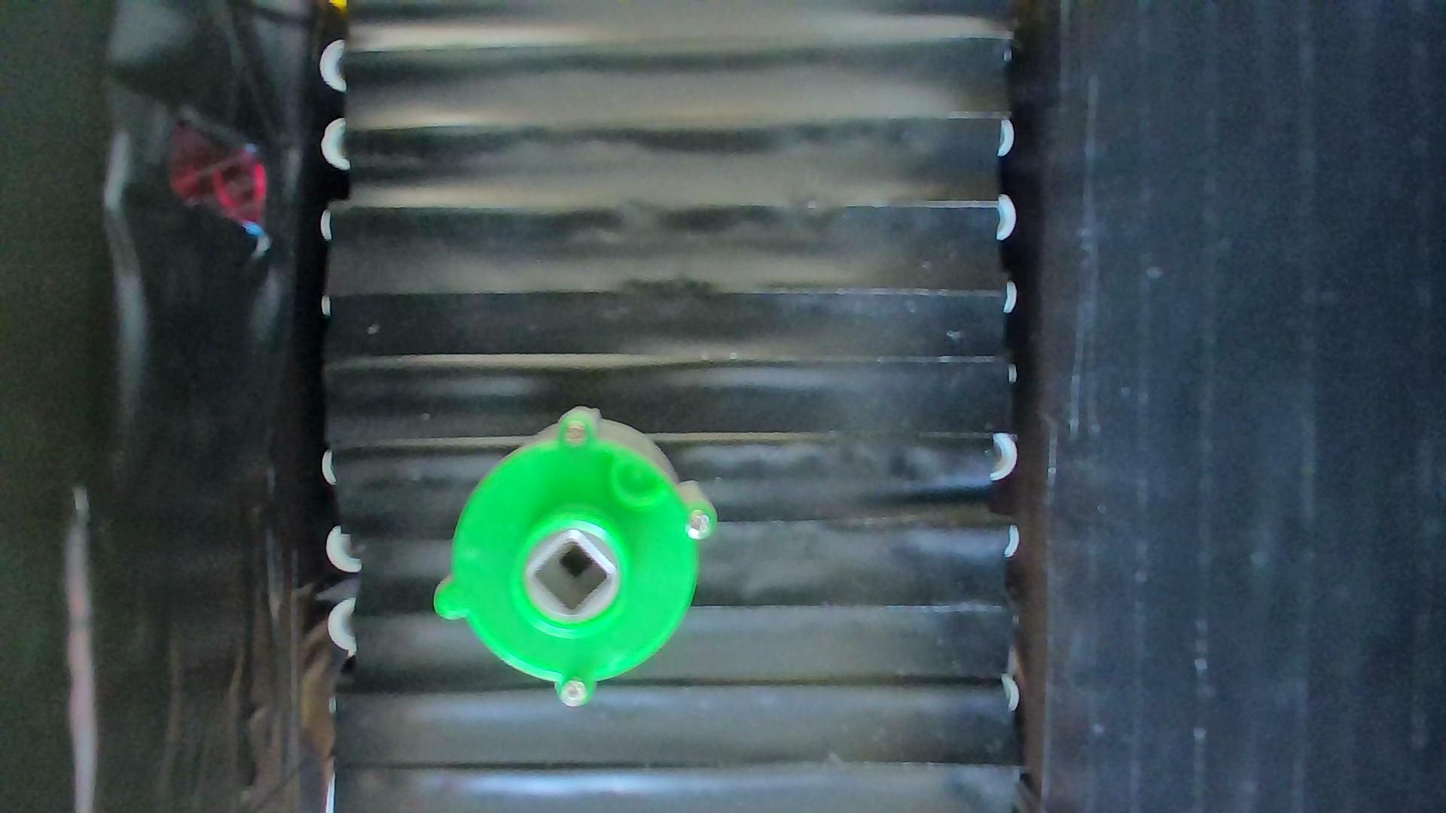cartridge: (432, 406, 718, 707)
